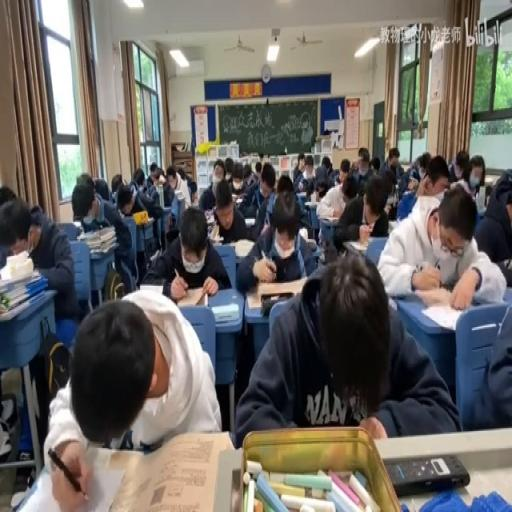calculator: (245, 276, 305, 311), (419, 303, 464, 330), (173, 284, 208, 308), (210, 300, 238, 322), (232, 236, 255, 256), (344, 239, 367, 252), (134, 214, 154, 228), (475, 184, 485, 209), (205, 210, 216, 232), (318, 213, 341, 222), (139, 283, 162, 292), (304, 235, 317, 250), (208, 233, 222, 245), (388, 219, 398, 233), (298, 226, 308, 240), (386, 194, 395, 208), (149, 248, 159, 260), (234, 195, 244, 206), (72, 219, 82, 230), (306, 198, 318, 206), (244, 216, 254, 225), (296, 190, 306, 198)
paper: (233, 249, 453, 446), (29, 288, 220, 504), (376, 180, 505, 308), (3, 190, 85, 350), (148, 204, 229, 298), (462, 288, 512, 432), (78, 179, 136, 290), (332, 174, 390, 248), (247, 164, 279, 234), (198, 159, 230, 215), (378, 145, 404, 196), (450, 154, 479, 198), (404, 149, 429, 189), (174, 165, 197, 205), (493, 171, 512, 212), (92, 175, 110, 202), (291, 152, 305, 186), (230, 161, 244, 192), (0, 184, 17, 208), (276, 172, 294, 194), (131, 168, 146, 192), (149, 162, 164, 184), (74, 170, 92, 188), (110, 172, 124, 194), (160, 184, 174, 206), (342, 181, 356, 202), (118, 193, 131, 215), (222, 156, 233, 180), (259, 151, 271, 165), (321, 155, 331, 171), (370, 155, 379, 172), (254, 159, 262, 178), (242, 164, 251, 180), (347, 161, 357, 175), (340, 161, 350, 175), (358, 148, 368, 162), (166, 175, 174, 189), (305, 163, 313, 175), (192, 192, 198, 202)
person: (384, 452, 470, 494)
